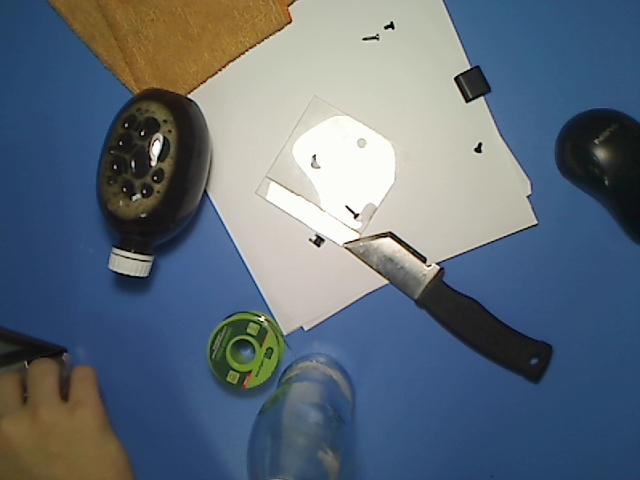plast_bottle: (89, 84, 218, 281)
